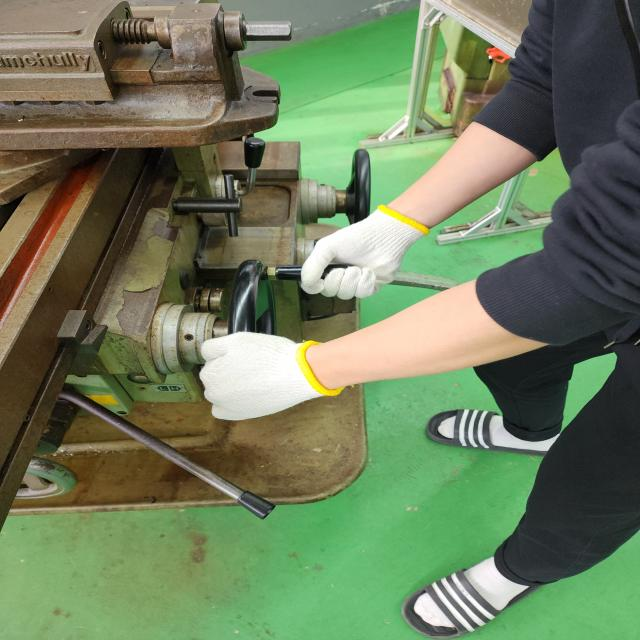Boots: (299, 204, 431, 300), (200, 331, 340, 421)
